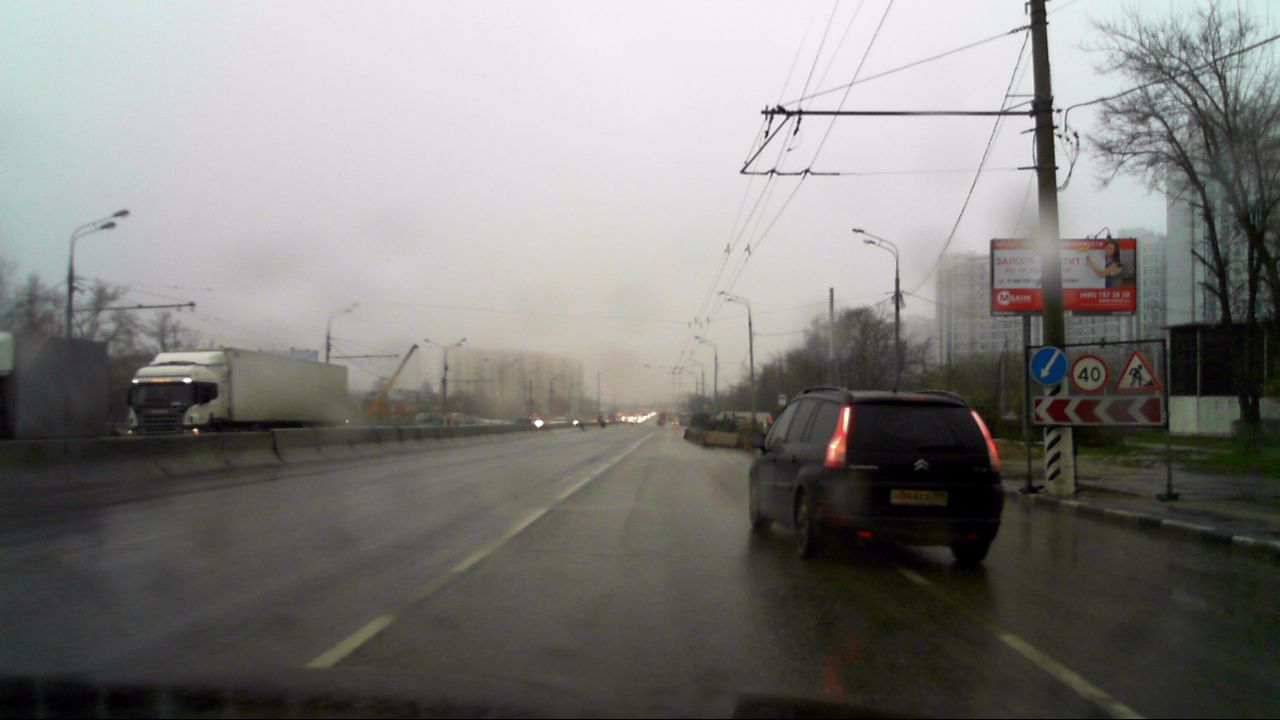speed_warning_40: (1071, 355, 1108, 392)
